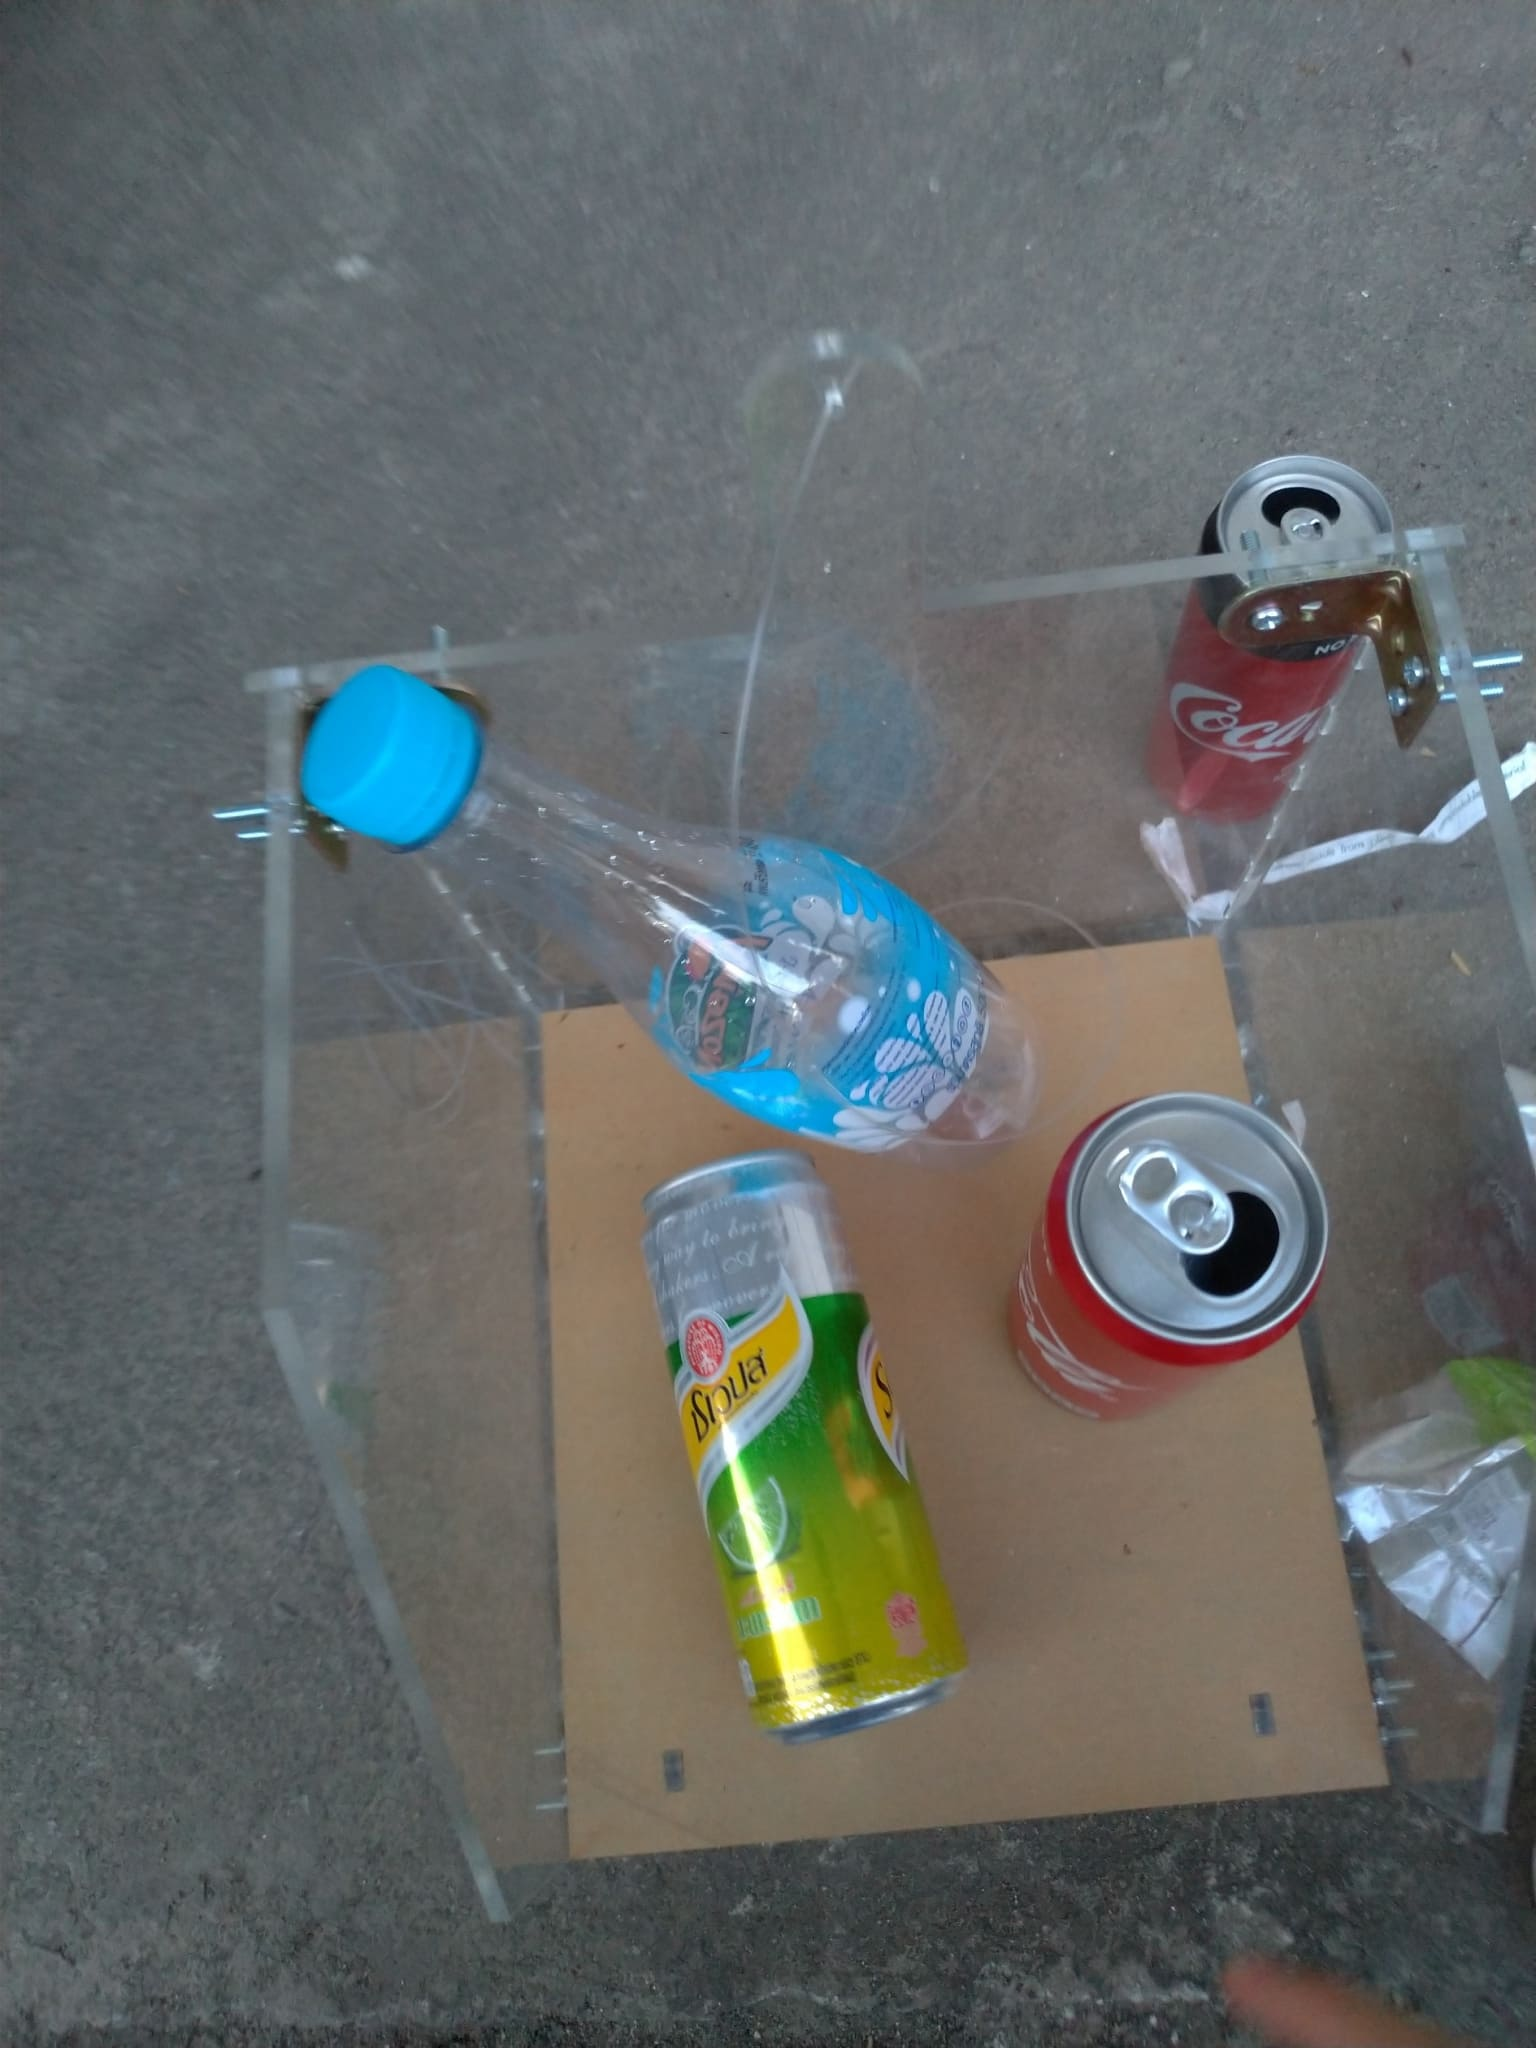AlCan: (644, 1155, 979, 1748), (1002, 1097, 1334, 1422), (1147, 458, 1402, 832)
Others: (1334, 1358, 1536, 1684)
PlasticBottle: (305, 664, 1041, 1155)
